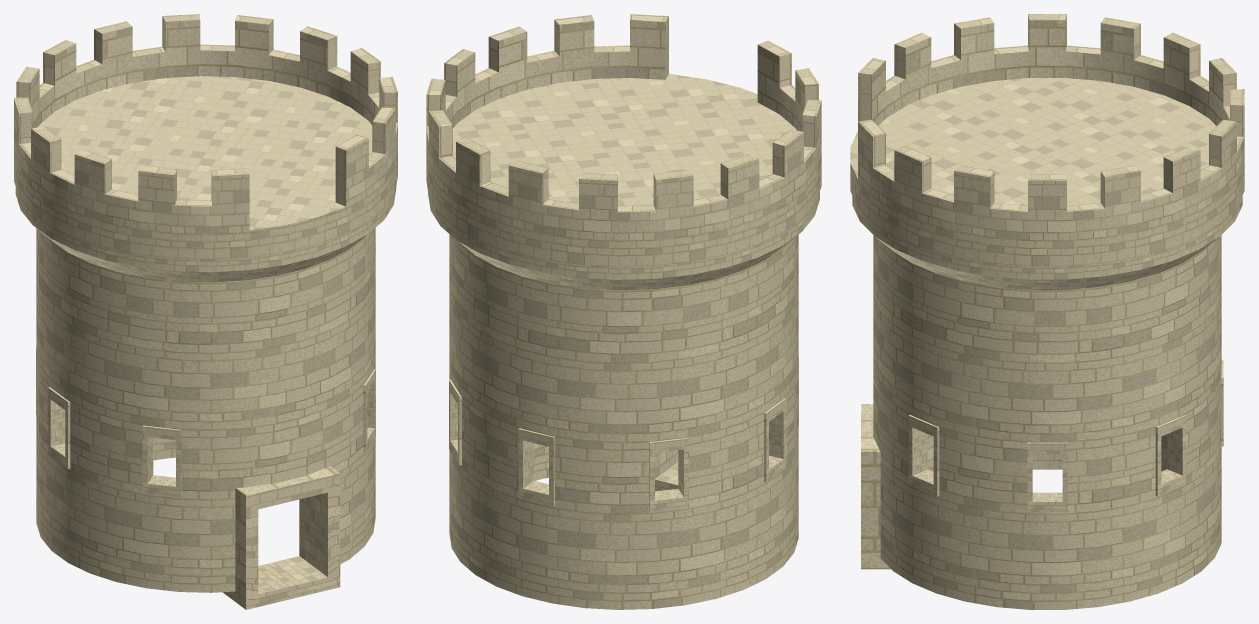
Rendered from Tower.gltf.
3 views of the same model, side by side, from view 1: azimuth 30°, elevation 25°; view 2: azimuth 150°, elevation 25°; view 3: azimuth 270°, elevation 25° (orthographic). The views are drawn at different scales.
Parts seen in each view (by area): view 1: Tower; view 2: Tower; view 3: Tower.
Boxes of the visible parts, box(x1,y1,x2,y2) form: Tower: box(14, 14, 397, 609); Tower: box(426, 14, 821, 609); Tower: box(850, 14, 1244, 609).
Bounding box in the file's own units: 10.32 × 13 × 10.32.
2 materials, 2 textured.
